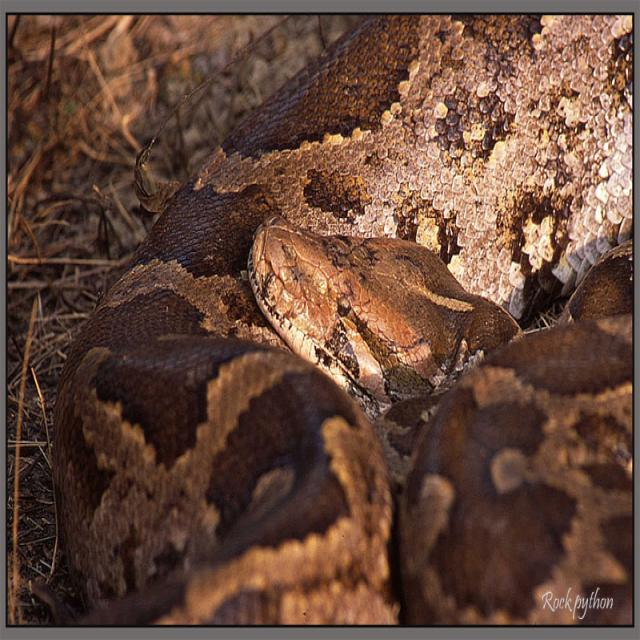Snake: (50, 11, 632, 624)
